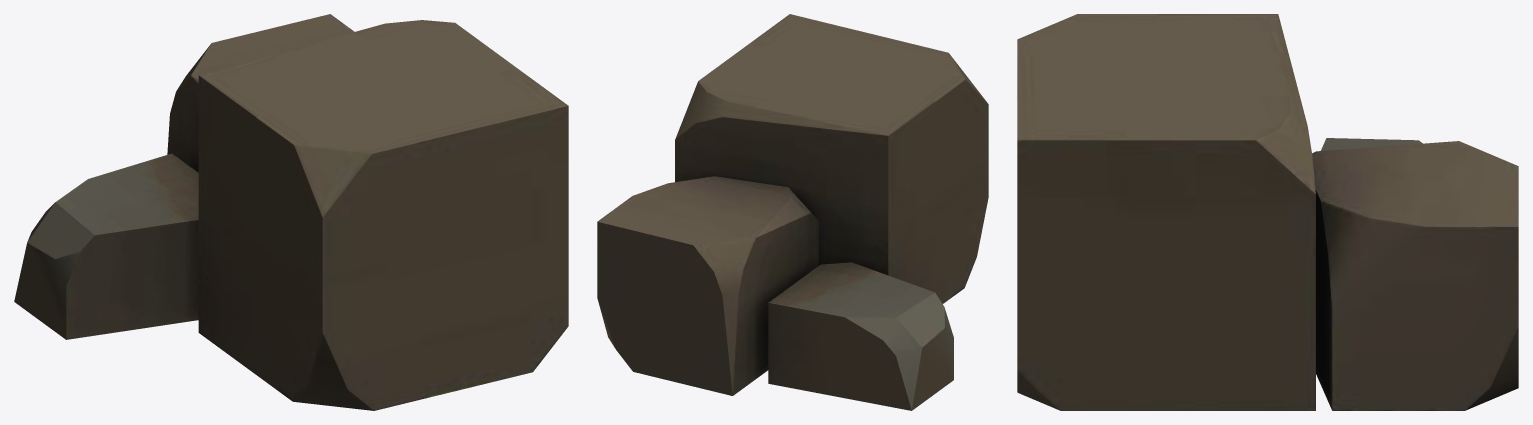
The model's file is OBJ_SmallRock_03.obj.
3 views of the same model, side by side, from view 1: azimuth 30°, elevation 25°; view 2: azimuth 150°, elevation 25°; view 3: azimuth 270°, elevation 25° (orthographic). The views are drawn at different scales.
Parts seen in each view (by area): view 1: OBJ_SmallRock_03; view 2: OBJ_SmallRock_03; view 3: OBJ_SmallRock_03.
Boxes of the visible parts, x1,y1,x2,y2 form: OBJ_SmallRock_03: [14, 14, 568, 410]; OBJ_SmallRock_03: [597, 14, 988, 410]; OBJ_SmallRock_03: [1017, 14, 1518, 410].
Size of the model in its own units: 0.8046 by 0.5614 by 0.942.
Materials: 1 (1 with a texture image).
